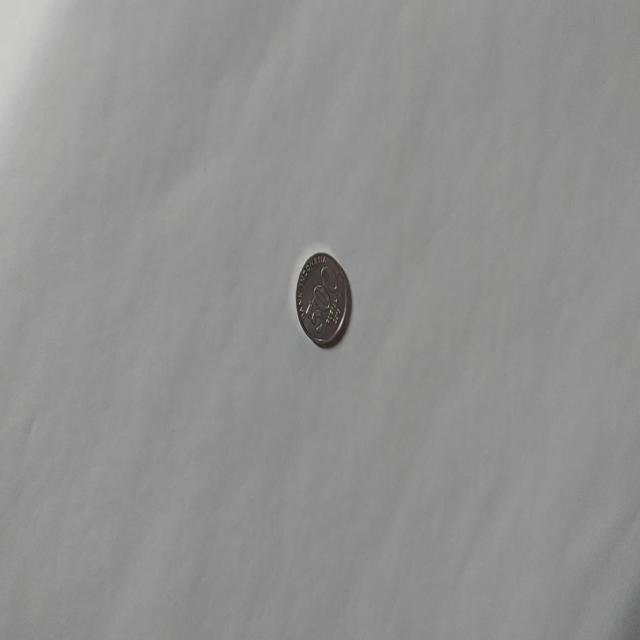lima ratus rupiah: (294, 250, 350, 348)
